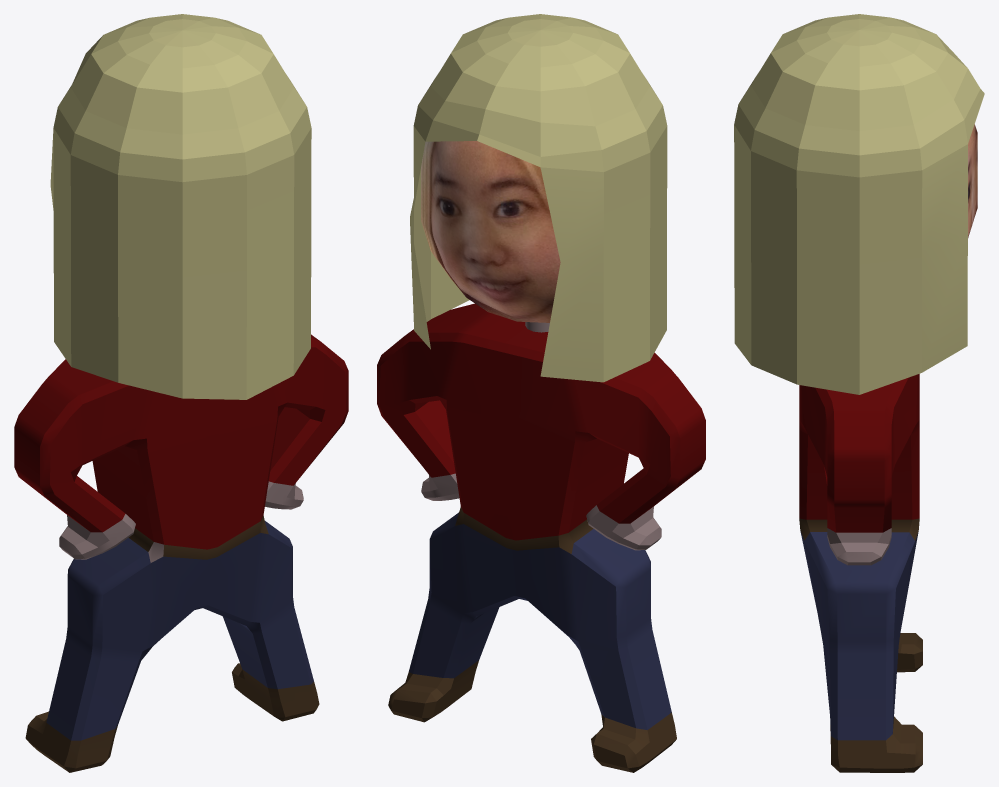
The model's file is Cui Yu.fbx.
3 views of the same model, side by side, from view 1: azimuth 30°, elevation 25°; view 2: azimuth 150°, elevation 25°; view 3: azimuth 270°, elevation 25° (orthographic). The views are drawn at different scales.
Visible parts, largest first — view 1: pSphere2, pCube1; view 2: pCube1, pSphere2, pSphere1; view 3: pSphere2, pCube1, pSphere1.
Part boxes in pixels (x1,y1,x2,y2): pSphere2: (50, 14, 311, 399); pCube1: (14, 334, 348, 772); pCube1: (377, 303, 705, 772); pSphere2: (410, 14, 667, 382); pSphere1: (421, 141, 560, 322); pSphere2: (734, 14, 984, 394); pCube1: (799, 374, 922, 772); pSphere1: (968, 124, 977, 237).
Bounding box in the file's own units: 2.87 × 6.27 × 2.08.
